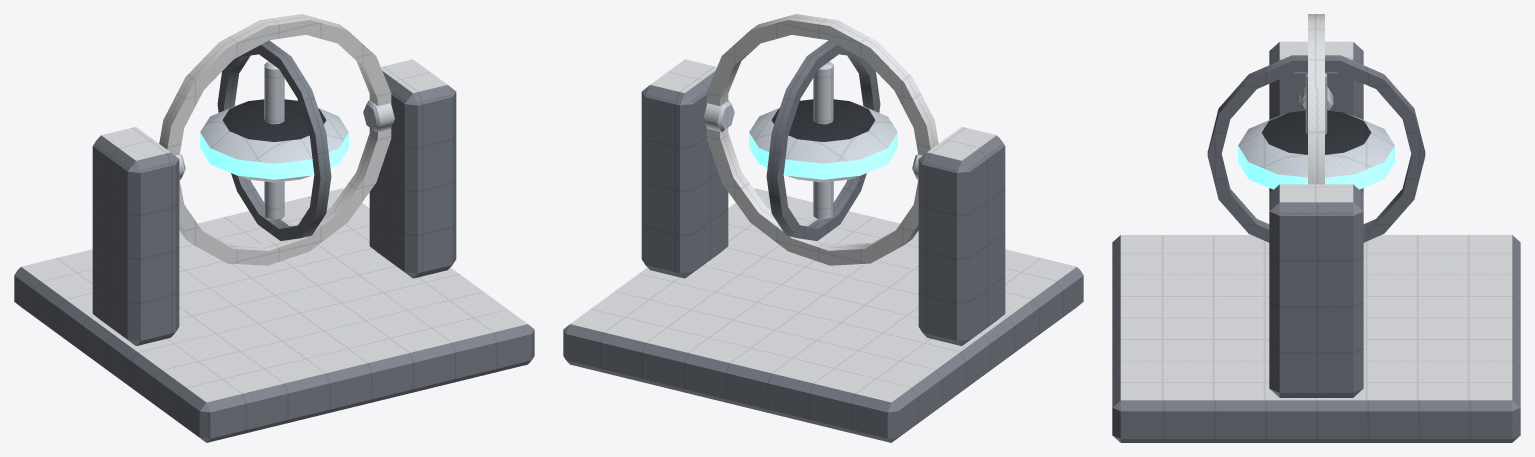
Rendered from R4X_Gyroscope_LOD1.glb.
3 views of the same model, side by side, from view 1: azimuth 30°, elevation 25°; view 2: azimuth 150°, elevation 25°; view 3: azimuth 270°, elevation 25° (orthographic). The views are drawn at different scales.
Parts seen in each view (by area): view 1: R4X_Gyroscope_LOD1; view 2: R4X_Gyroscope_LOD1; view 3: R4X_Gyroscope_LOD1.
Boxes of the visible parts, x1,y1,x2,y2 form: R4X_Gyroscope_LOD1: [14, 14, 534, 442]; R4X_Gyroscope_LOD1: [563, 14, 1083, 442]; R4X_Gyroscope_LOD1: [1112, 14, 1520, 442].
Bounding box in the file's own units: 0.52 × 0.4678 × 0.52.
Materials: 5 (4 with a texture image).
